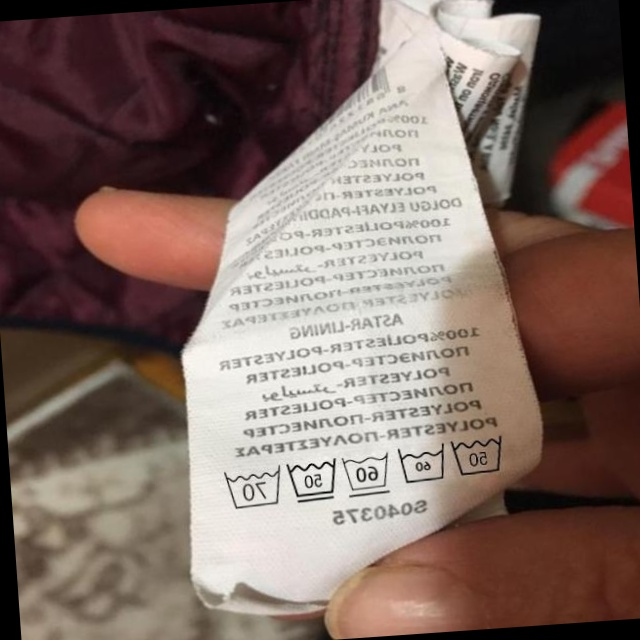50C: (446, 427, 511, 481), (282, 454, 342, 507)
60C: (337, 447, 393, 499), (393, 440, 450, 489)
70C: (217, 463, 284, 512)
